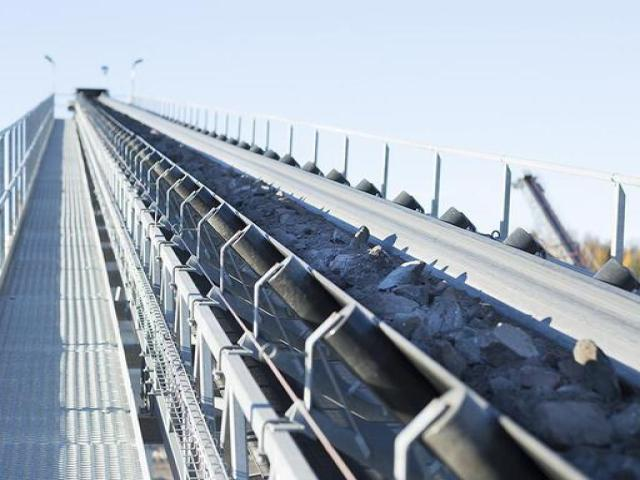conveyor: (67, 86, 635, 479)
